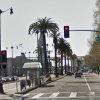Palm tree: (28, 13, 62, 72)
